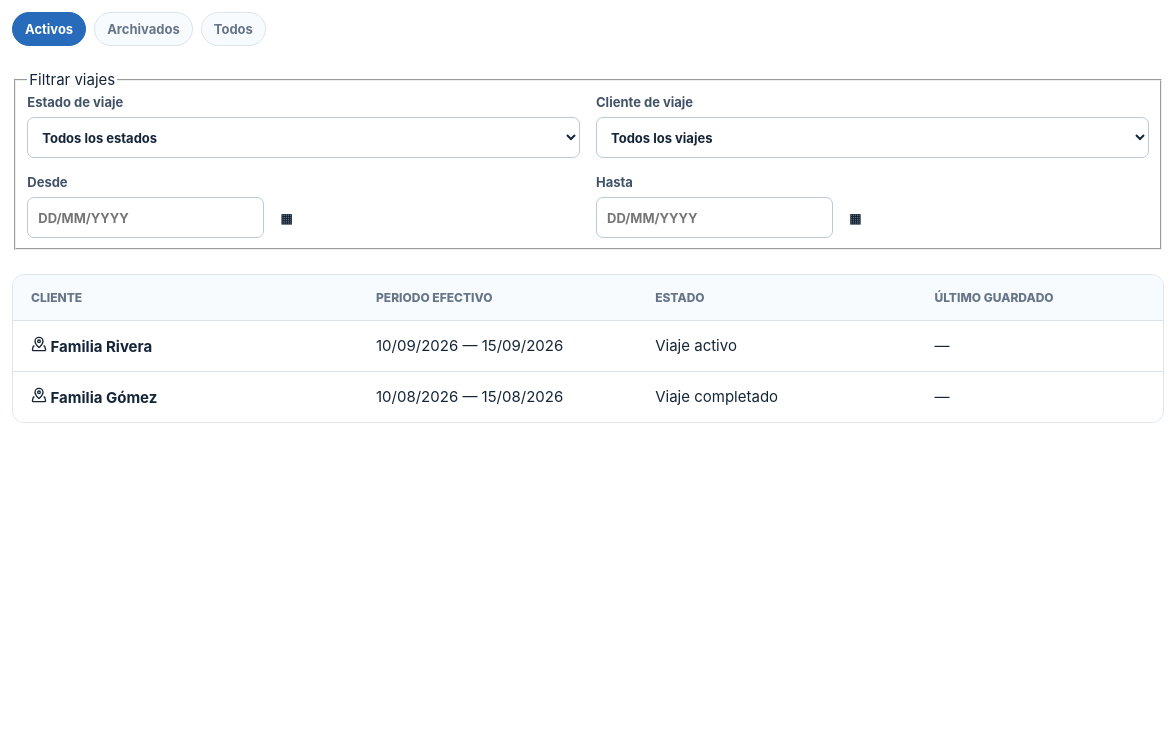
Test: TripList › filters active trips independently by status, client, and effective date interval
Select "Viaje completado" in the dropdown labelled "Estado de viaje" at (304, 138), box [27,117,580,158]
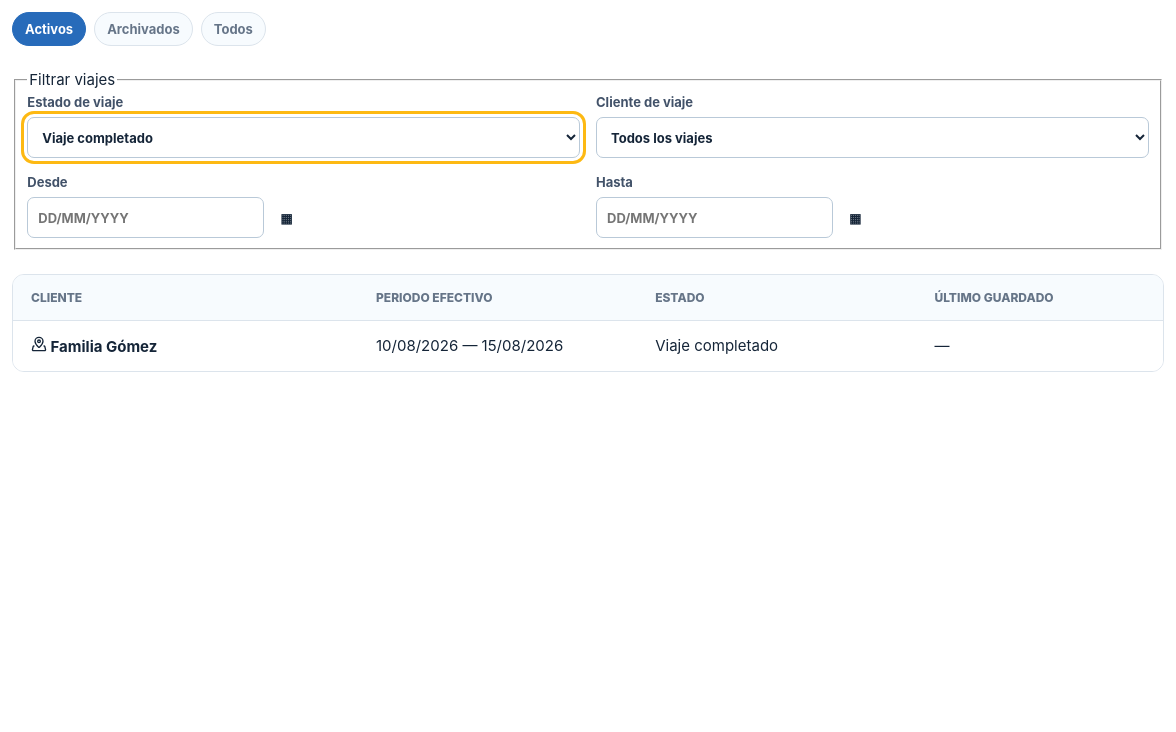
Expected: the text "Familia Gómez" is shown, [31,336,157,356]
Now the button "Familia Rivera" is gone
Select "Familia Rivera" in the dropdown labelled "Cliente de viaje" at (872, 138), box [596,117,1149,158]
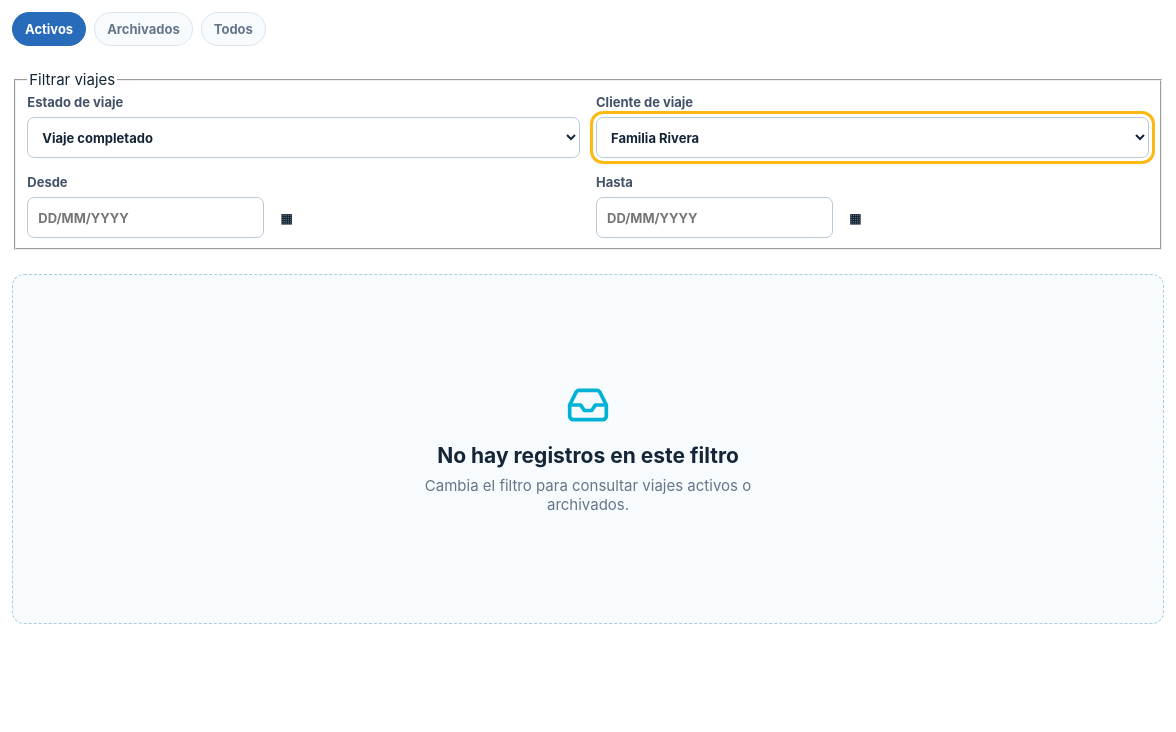
Now the heading "No hay registros en este filtro" is shown, box [437,443,739,468]
